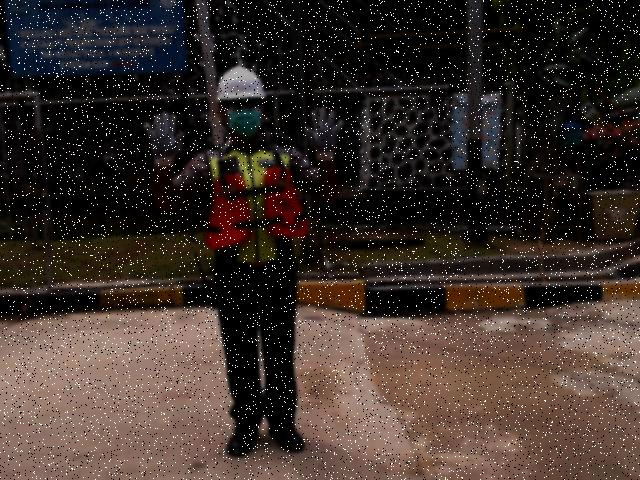glasses: (224, 99, 262, 111)
gloves: (141, 110, 188, 170), (303, 104, 346, 163)
helmet: (213, 64, 267, 100), (268, 160, 268, 162)
mask: (225, 108, 263, 138)
safety-shoes: (265, 423, 308, 453), (226, 425, 261, 458)
vest: (202, 164, 310, 251)
